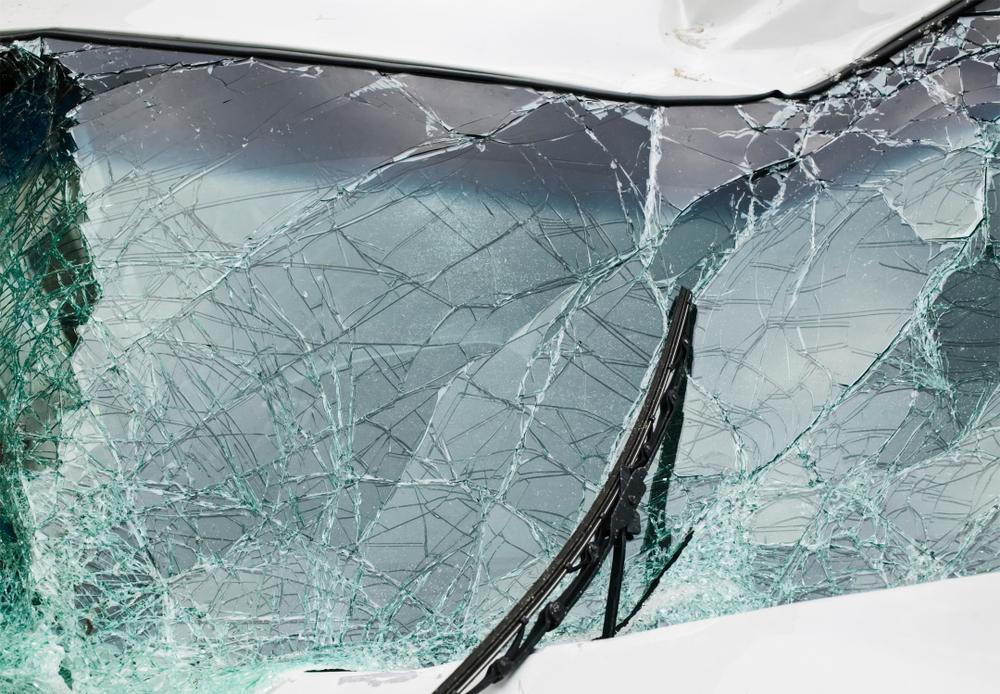dent: (660, 0, 909, 96)
glass shatter: (0, 9, 1000, 694)
